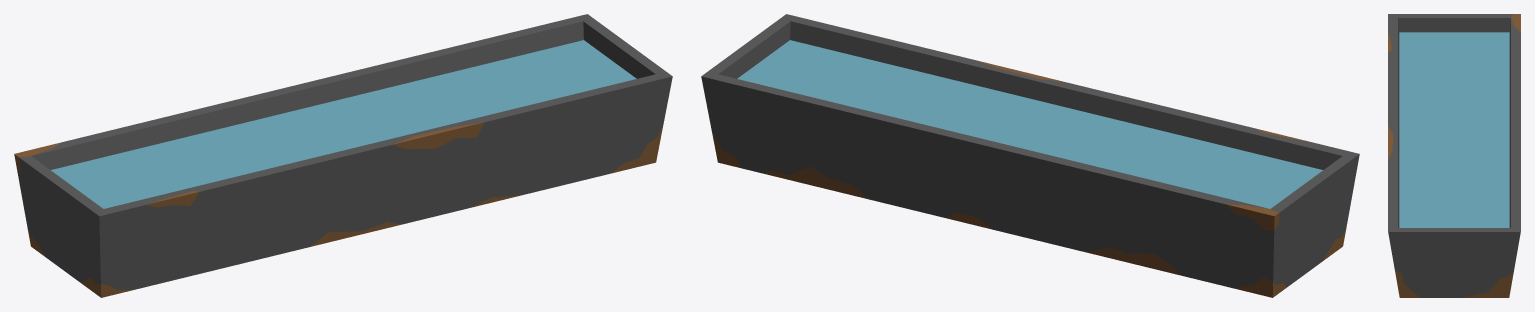
File: BucketWater_01.fbx
3 views of the same model, side by side, from view 1: azimuth 30°, elevation 25°; view 2: azimuth 150°, elevation 25°; view 3: azimuth 270°, elevation 25° (orthographic). The views are drawn at different scales.
Visible parts, largest first — view 1: BucketWater_01; view 2: BucketWater_01; view 3: BucketWater_01.
Boxes of the visible parts, bbox=[...] form: BucketWater_01: bbox=[14, 14, 672, 297]; BucketWater_01: bbox=[701, 14, 1359, 297]; BucketWater_01: bbox=[1388, 14, 1520, 297].
Size of the model in its own units: 176 by 26.23 by 45.31.
